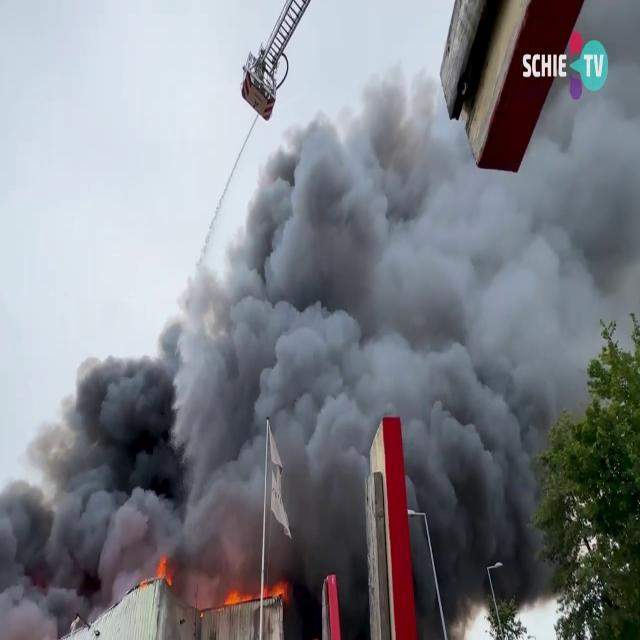Smoke: (1, 65, 632, 612), (0, 306, 203, 640)
